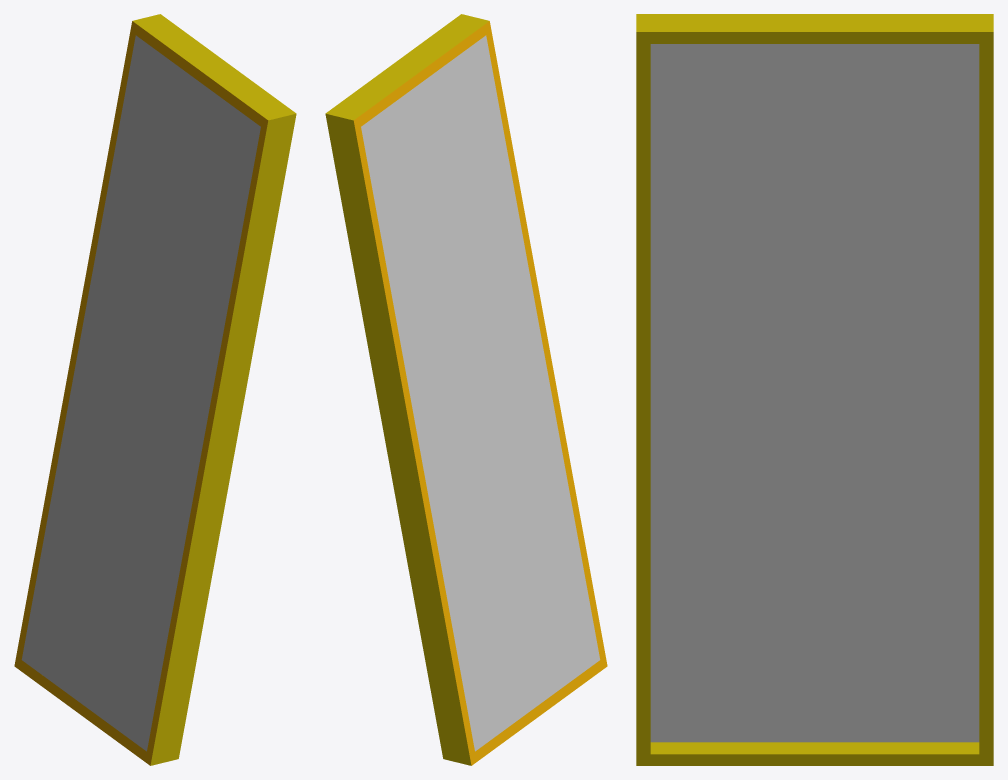
The model's file is window_slanted_2x1x5.dae.
3 views of the same model, side by side, from view 1: azimuth 30°, elevation 25°; view 2: azimuth 150°, elevation 25°; view 3: azimuth 270°, elevation 25° (orthographic). The views are drawn at different scales.
Parts seen in each view (by area): view 1: Cube; view 2: Cube; view 3: Cube.
Part boxes in pixels (bbox=[...]): Cube: bbox=[14, 14, 296, 765]; Cube: bbox=[325, 14, 607, 765]; Cube: bbox=[636, 14, 993, 765].
Size of the model in its own units: 0.31 by 0.5 by 1.25.
